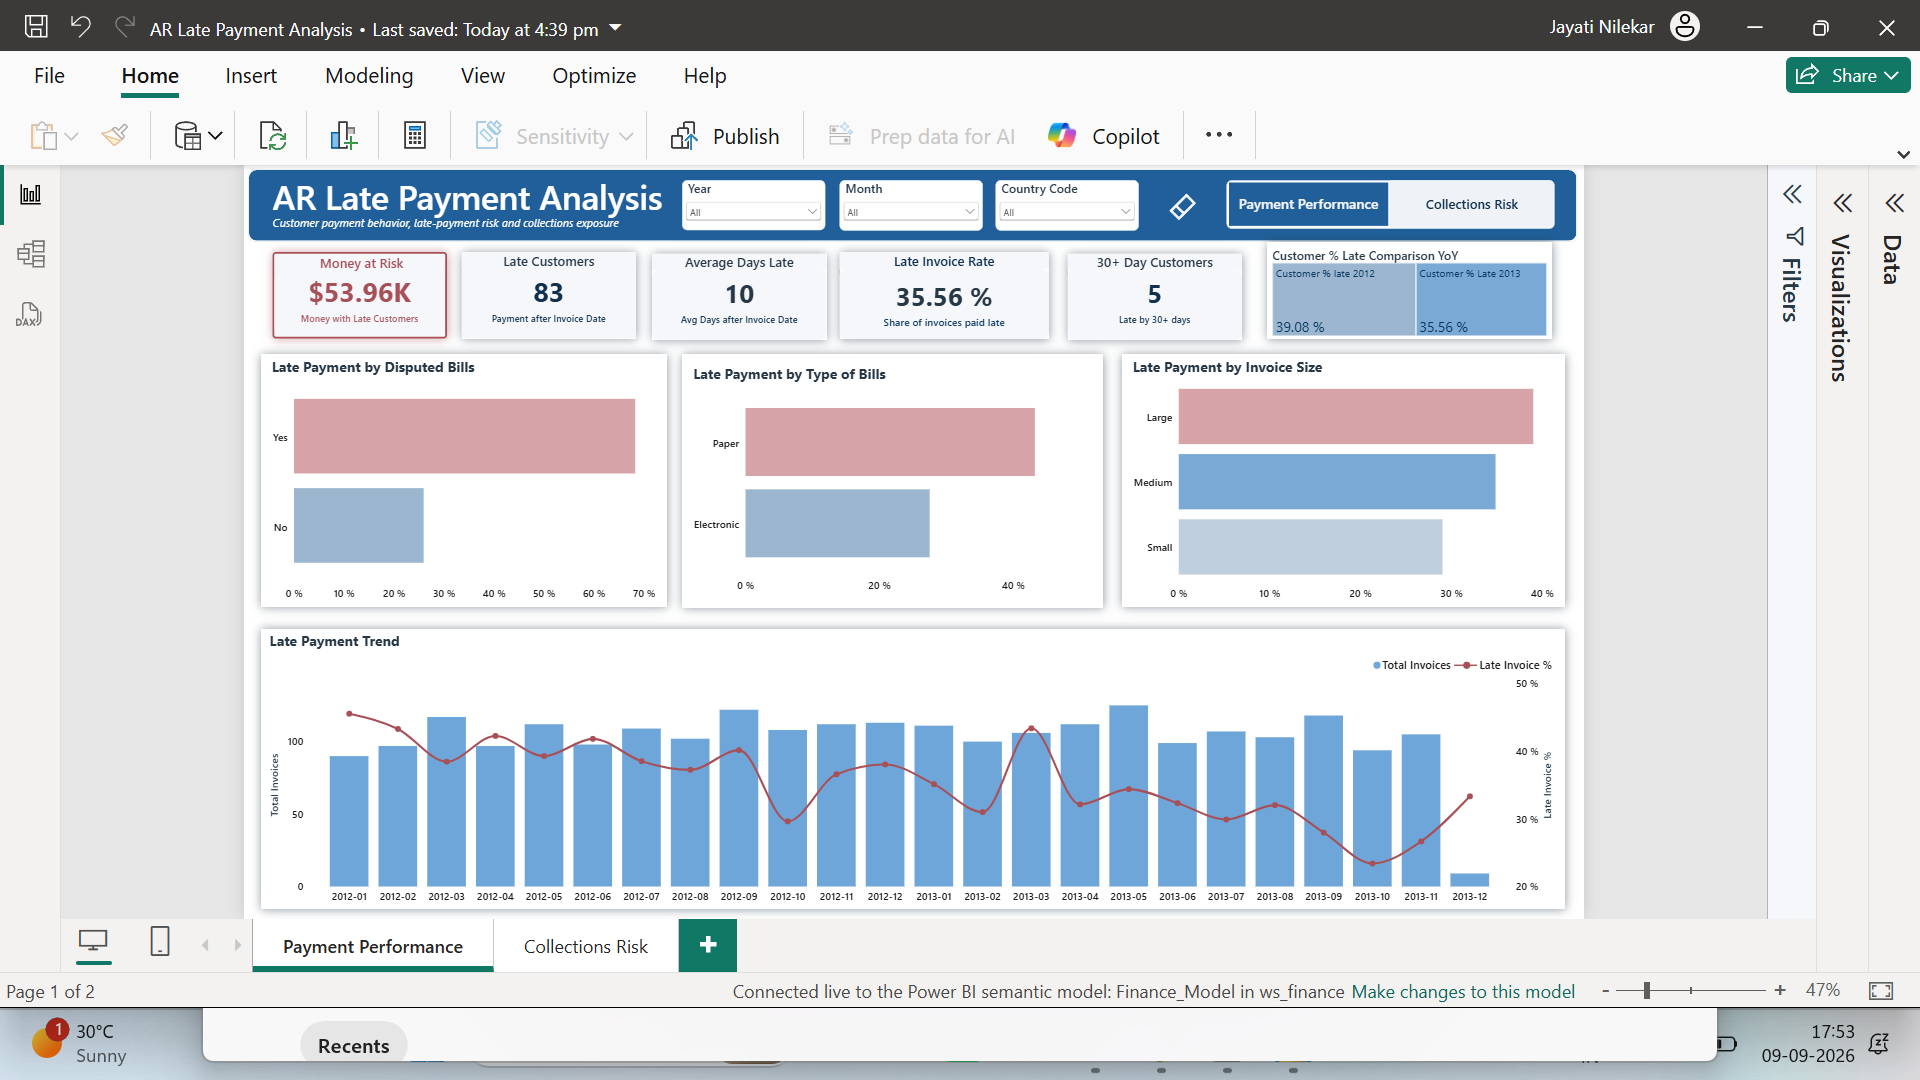

This screenshot's page, from the dashboard's own definition file:
{"tool":"powerbi","page":{"name":"Payment Performance","canvas":[1920,1080],"ordinal":0},"visuals":[{"type":"shape","box":[7,7,1903.5,103.5],"z":1000},{"type":"textbox","box":[40.4,12.3,575.8,68.8],"z":2000},{"type":"textbox","box":[40.4,71.9,575.8,38.7],"z":3000},{"type":"clusteredBarChart","title":"Late Payment by Disputed Bills","fields":{"Category":["silver_accounts.disputed"],"Y":["silver_accounts.Late Invoice %"]},"box":[24.4,271.1,582.2,362.2],"z":5000},{"type":"clusteredBarChart","title":"Late Payment by Invoice Size","fields":{"Category":["silver_accounts.invoice_amount_bucket"],"Y":["silver_accounts.Late Invoice %"]},"box":[1257.8,271.1,635.6,362.2],"z":6000},{"type":"lineClusteredColumnComboChart","title":"Late Payment Trend","fields":{"Category":["silver_accounts.year_month"],"Y":["silver_accounts.Total Invoices"],"Y2":["silver_accounts.Late Invoice %"]},"box":[24.4,664.4,1868.9,402.2],"z":7000},{"type":"slicer","fields":{"Values":["silver_accounts.year"]},"box":[627.5,22.5,205,72],"z":9000},{"type":"clusteredBarChart","title":"Late Payment by Type of Bills","fields":{"Category":["silver_accounts.paperless_bill"],"Y":["silver_accounts.Late Invoice %"]},"box":[626.7,270,603.3,363.3],"z":10000},{"type":"slicer","fields":{"Values":["silver_accounts.country_code"]},"box":[1077.5,22.5,205,72.5],"z":11000},{"type":"cardVisual","title":"Late Customers","fields":{"Data":["silver_accounts.Late Customers"]},"box":[312.5,125,250,124.1],"z":12000},{"type":"slicer","fields":{"Values":["silver_accounts.month"]},"box":[852.5,22.5,205,72.5],"z":13000},{"type":"cardVisual","title":"Money at Risk","fields":{"Data":["silver_accounts.Money at Risk"]},"box":[40,125,250,124.1],"z":14000},{"type":"cardVisual","title":"Late Customer Rate","fields":{"Data":["silver_accounts.Late Invoice %"]},"box":[852.3,125,300,125],"z":15000},{"type":"cardVisual","title":"Average Days Late","fields":{"Data":["silver_accounts.Customer Avg Days Late"]},"box":[585,125.7,250,124.3],"z":16000},{"type":"cardVisual","title":"30+ Day Customers","fields":{"Data":["Count(silver_accounts.customer_id)"]},"box":[1180,127.5,250,124.1],"z":17000},{"type":"treemap","title":"Customer % Late Comparison YoY","fields":{"Values":["silver_accounts.Customer % Late 2013","silver_accounts.Customer % late 2012"]},"box":[1464.3,110,408.6,140],"z":18000},{"type":"actionButton","box":[1300,30,90.2,60.2],"z":18001},{"type":"pageNavigator","box":[1407.5,22.5,470,70],"z":18002}]}

Visuals, with their boxes on the page's 1920x1080 design canvas (x1, y1, x2, y2). These are canvas units, not pixel positions in the 1920x1080 screenshot, which may show the page scaled, cropped or inside an application window:
shape: [7, 7, 1910, 110]
textbox: [40, 12, 616, 81]
textbox: [40, 72, 616, 111]
"Late Payment by Disputed Bills" clusteredBarChart: [24, 271, 607, 633]
"Late Payment by Invoice Size" clusteredBarChart: [1258, 271, 1893, 633]
"Late Payment Trend" lineClusteredColumnComboChart: [24, 664, 1893, 1067]
slicer - silver_accounts.year: [628, 22, 832, 94]
"Late Payment by Type of Bills" clusteredBarChart: [627, 270, 1230, 633]
slicer - silver_accounts.country_code: [1078, 22, 1282, 95]
"Late Customers" cardVisual: [312, 125, 562, 249]
slicer - silver_accounts.month: [852, 22, 1058, 95]
"Money at Risk" cardVisual: [40, 125, 290, 249]
"Late Customer Rate" cardVisual: [852, 125, 1152, 250]
"Average Days Late" cardVisual: [585, 126, 835, 250]
"30+ Day Customers" cardVisual: [1180, 128, 1430, 252]
"Customer % Late Comparison YoY" treemap: [1464, 110, 1873, 250]
actionButton: [1300, 30, 1390, 90]
pageNavigator: [1408, 22, 1878, 92]
